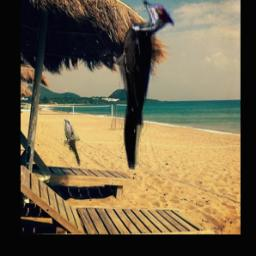Cuckoo: (64, 119, 81, 166)
Woodpecker: (99, 0, 174, 171)
